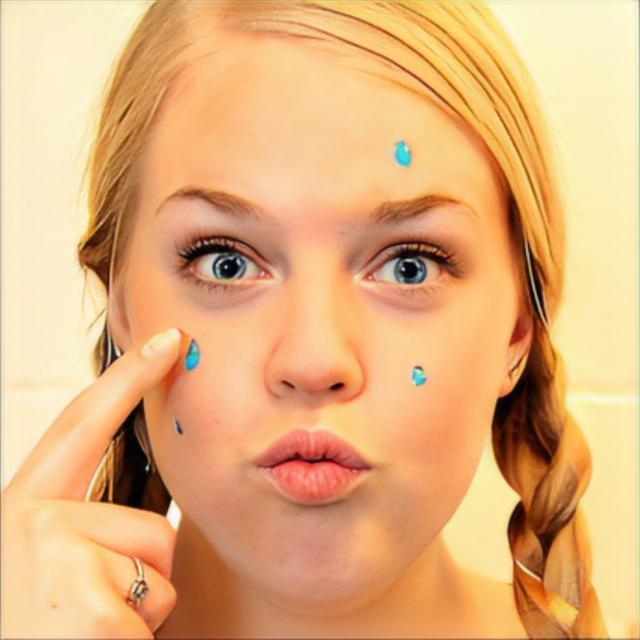surprise: (120, 31, 512, 618)
